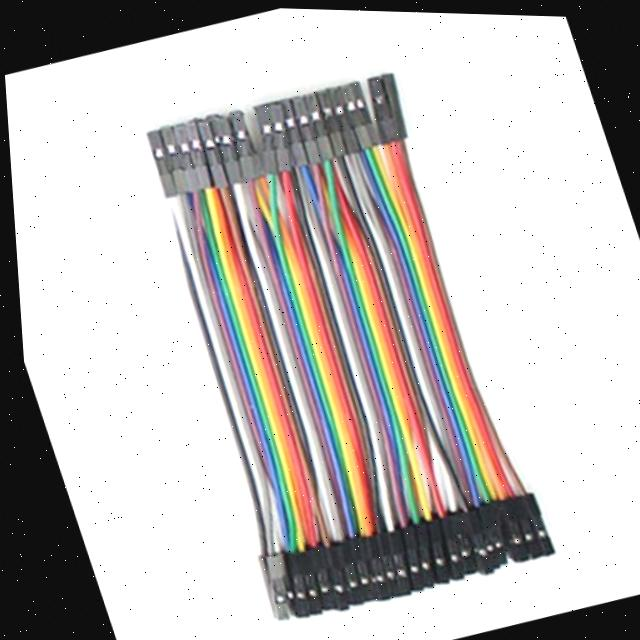Jumper Wires: (119, 47, 565, 639)
